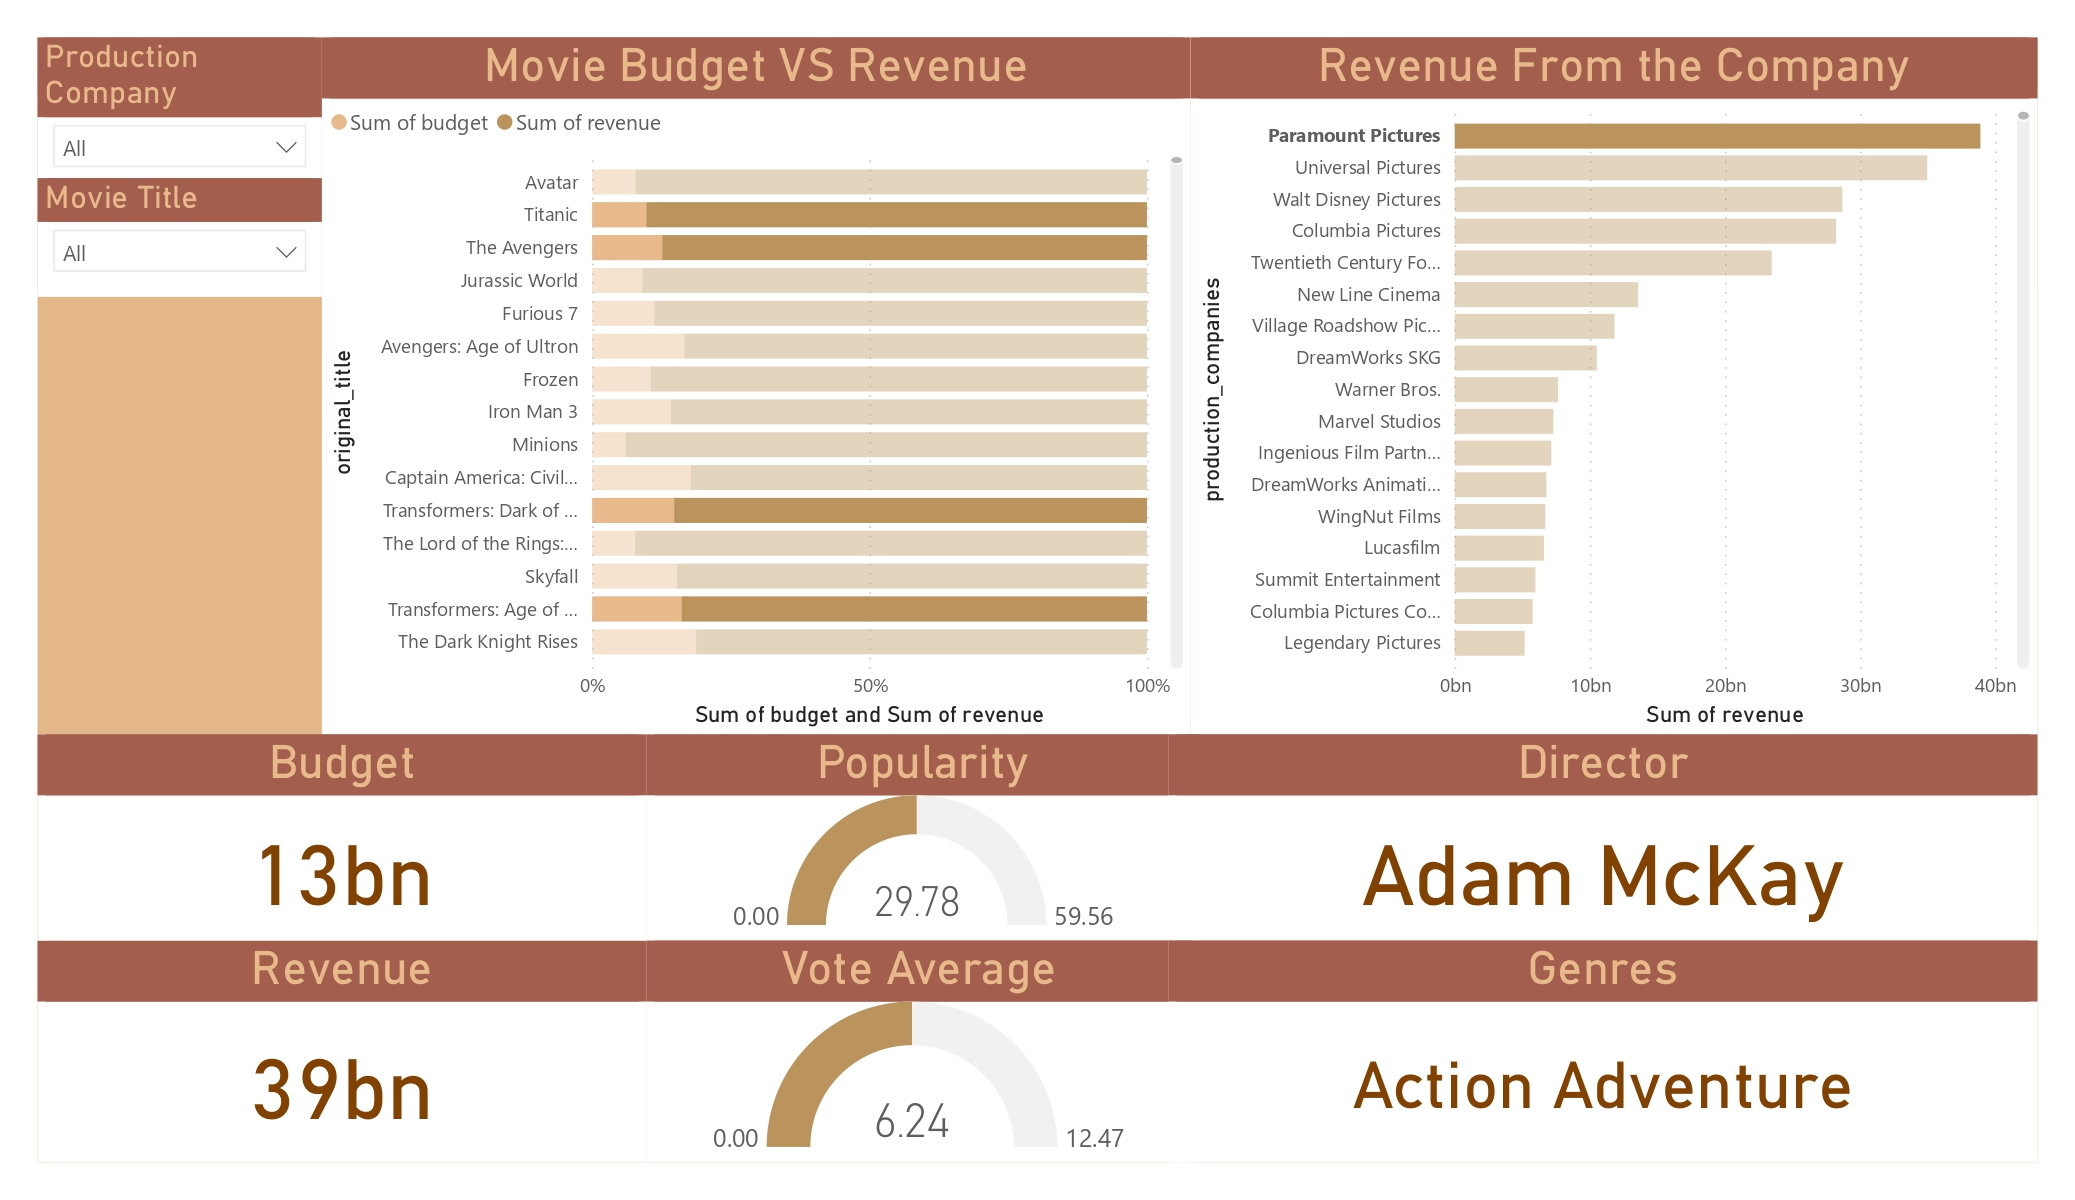

The page's visual inventory and layout, read from the dashboard file:
{"tool":"powerbi","page":{"name":"Page 1","canvas":[1280,720],"ordinal":0},"visuals":[{"type":"hundredPercentStackedBarChart","title":"Movie Budget VS Revenue","fields":{"Category":["movie_dataset.original_title"],"Y":["movie_dataset.budget","movie_dataset.revenue"]},"box":[182,0,556,446],"z":0},{"type":"barChart","title":"Revenue From the Company","fields":{"Category":["movie_dataset.production_companies"],"Y":["movie_dataset.revenue"]},"box":[738,0,542,446],"z":1000},{"type":"card","title":"Revenue","fields":{"Values":["movie_dataset.revenue"]},"box":[0,578,390,142],"z":2000},{"type":"card","title":"Budget","fields":{"Values":["movie_dataset.budget"]},"box":[0,446,390,132],"z":3000},{"type":"slicer","title":"Production Company","fields":{"Values":["movie_dataset.production_companies"]},"box":[0,0,182,90],"z":4000},{"type":"gauge","title":"Popularity","fields":{"Y":["movie_dataset.popularity"]},"box":[390,446,354,132],"z":5000},{"type":"slicer","title":"Movie Title","fields":{"Values":["movie_dataset.original_title"]},"box":[0,90,182,76],"z":6000},{"type":"card","title":"Director","fields":{"Values":["movie_dataset.director"]},"box":[724,446,556,132],"z":7000},{"type":"gauge","title":"Vote Average","fields":{"Y":["movie_dataset.vote_average"]},"box":[390,578,348,142],"z":8000},{"type":"card","title":"Genres","fields":{"Values":["movie_dataset.genres"]},"box":[724,578,556,142],"z":9000},{"type":"scatterChart","title":"Budget and Revenue","fields":{"X":["movie_dataset.budget"],"Y":["movie_dataset.revenue"]},"box":[0,167,181.4,279],"z":9001}]}

Visuals, with their boxes on the page's 1280x720 design canvas (x1, y1, x2, y2). These are canvas units, not pixel positions in the 2075x1200 screenshot, which may show the page scaled, cropped or inside an application window:
"Movie Budget VS Revenue" hundredPercentStackedBarChart: box(182, 0, 738, 446)
"Revenue From the Company" barChart: box(738, 0, 1280, 446)
"Revenue" card: box(0, 578, 390, 720)
"Budget" card: box(0, 446, 390, 578)
"Production Company" slicer: box(0, 0, 182, 90)
"Popularity" gauge: box(390, 446, 744, 578)
"Movie Title" slicer: box(0, 90, 182, 166)
"Director" card: box(724, 446, 1280, 578)
"Vote Average" gauge: box(390, 578, 738, 720)
"Genres" card: box(724, 578, 1280, 720)
"Budget and Revenue" scatterChart: box(0, 167, 181, 446)
